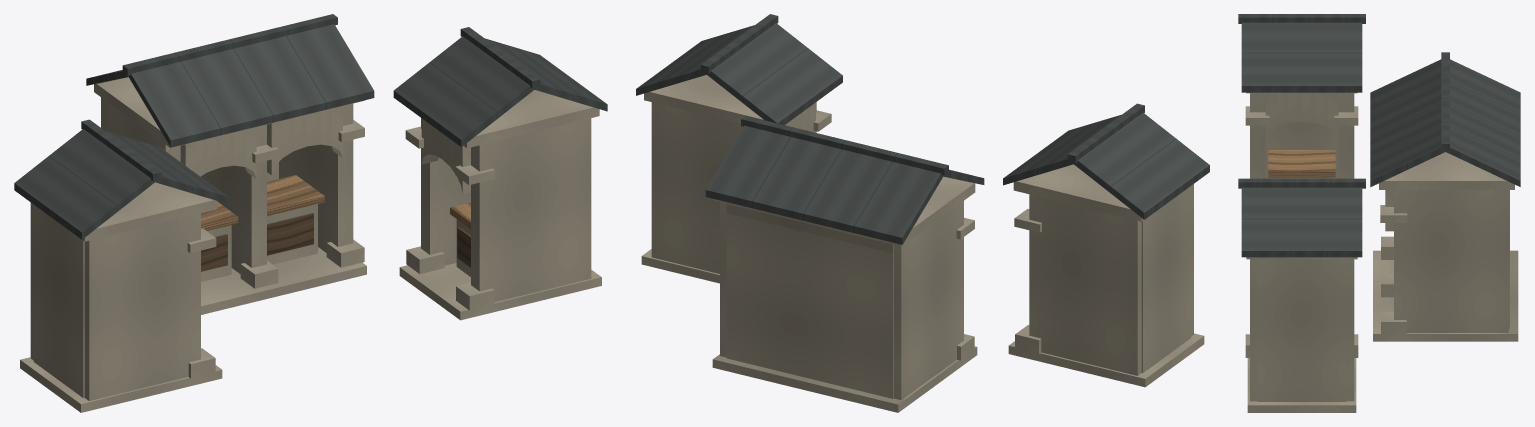
The model's file is freetown.glb.
3 views of the same model, side by side, from view 1: azimuth 30°, elevation 25°; view 2: azimuth 150°, elevation 25°; view 3: azimuth 270°, elevation 25° (orthographic). The views are drawn at different scales.
Parts seen in each view (by area): view 1: freetown; view 2: freetown; view 3: freetown.
Boxes of the visible parts, box(x1,y1,x2,y2) form: freetown: box(14, 14, 607, 412); freetown: box(636, 14, 1209, 412); freetown: box(1238, 14, 1520, 412).
Bounding box in the file's own units: 6.07 × 2.5 × 3.17.
Materials: 1 (1 with a texture image).
